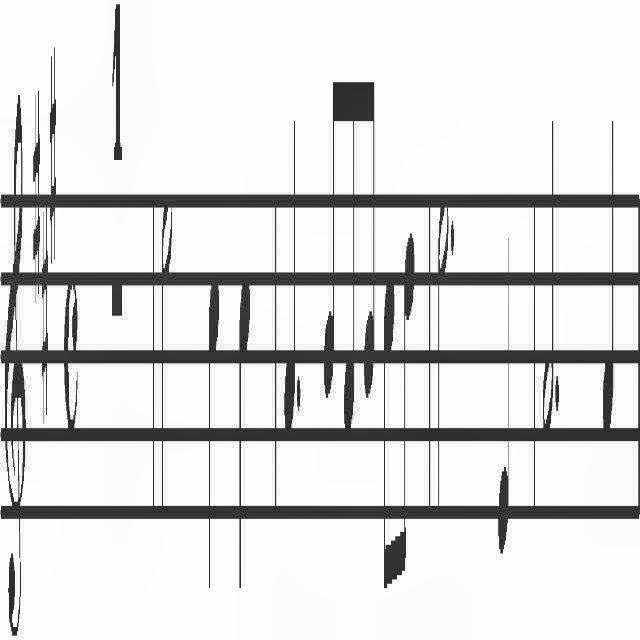Bass-clef: (2, 84, 26, 640)
Diez: (31, 86, 41, 312), (40, 210, 48, 448), (49, 44, 57, 272)
Eighth-note: (397, 228, 415, 608), (342, 52, 356, 444), (362, 56, 376, 408), (382, 272, 396, 612), (322, 68, 336, 398)
Half-note: (436, 192, 449, 522), (542, 108, 554, 436), (160, 192, 172, 516)
Quarter-note: (206, 272, 220, 602), (284, 101, 296, 438), (498, 229, 510, 563), (602, 105, 614, 439), (238, 278, 250, 602)
